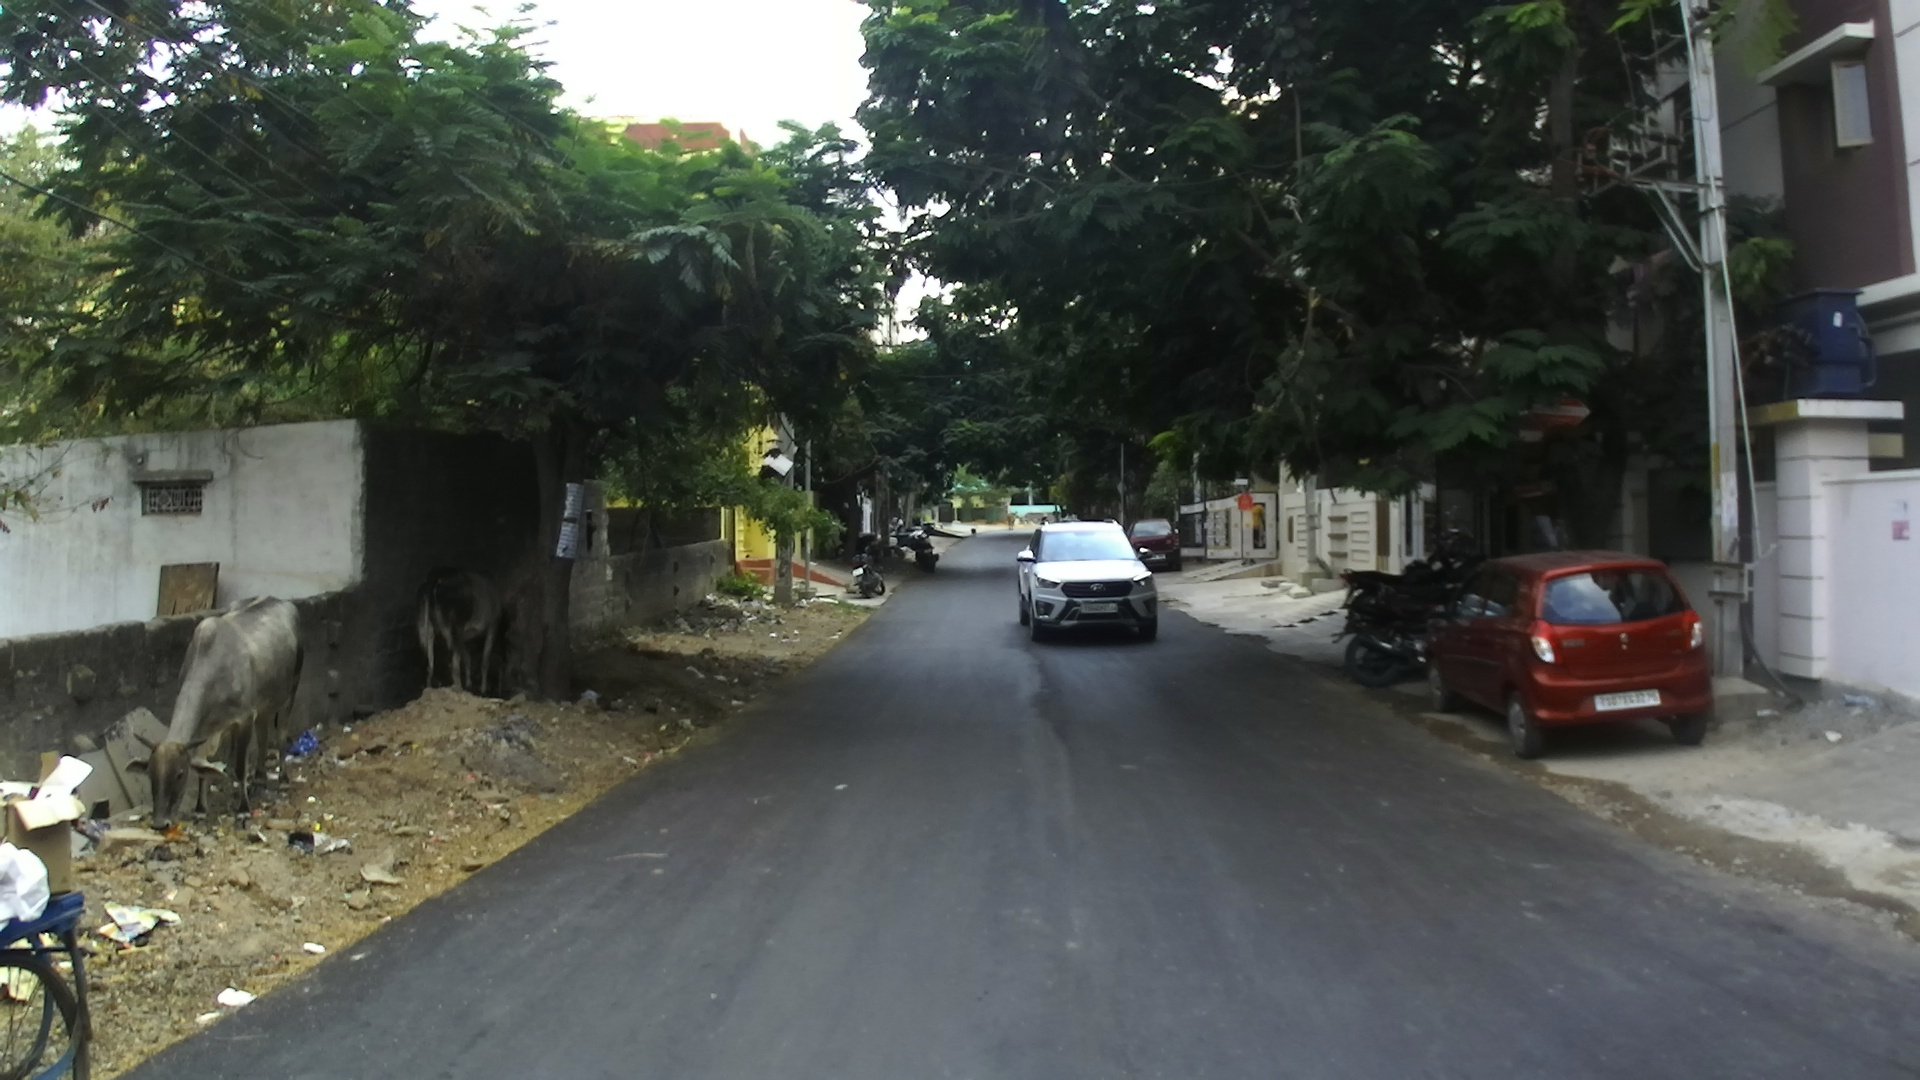vehicle: (0, 417, 564, 720), (1423, 546, 1714, 754), (0, 750, 131, 1073), (1338, 537, 1487, 680), (1015, 520, 1159, 641), (1126, 520, 1179, 571)
